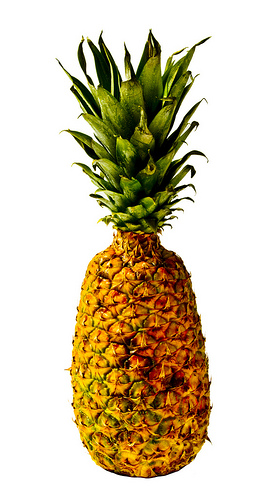pineapple: (57, 30, 211, 478)
